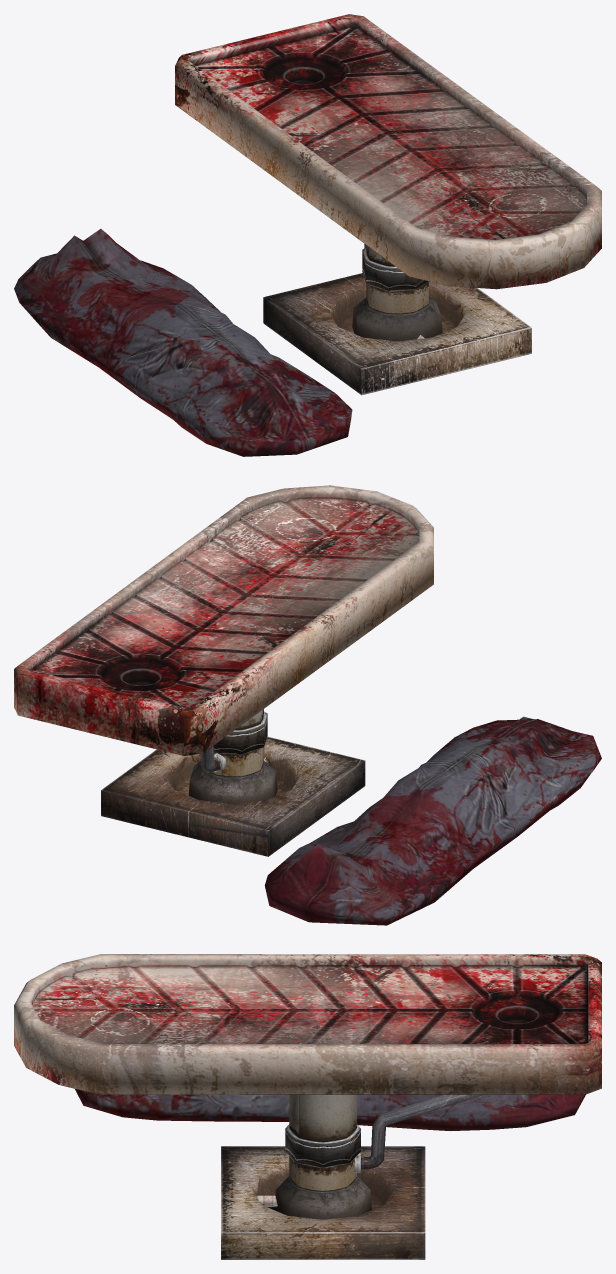
The picture shows the model from 3 angles, top to bottom: view 1: azimuth 30°, elevation 25°; view 2: azimuth 150°, elevation 25°; view 3: azimuth 270°, elevation 25°; orthographic projection. The views are drawn at different scales.
Visible parts, largest first — view 1: autopsytable_sm, deadman_sm; view 2: autopsytable_sm, deadman_sm; view 3: autopsytable_sm, deadman_sm.
Part boxes in pixels (x1,y1,x2,y2): autopsytable_sm: (175, 14, 601, 395); deadman_sm: (14, 229, 352, 456); autopsytable_sm: (14, 485, 433, 856); deadman_sm: (264, 716, 601, 925); autopsytable_sm: (14, 954, 601, 1259); deadman_sm: (75, 1089, 585, 1130).
Bounding box in the file's own units: 2.03 × 1.07 × 2.65.
2 materials, 2 textured.
